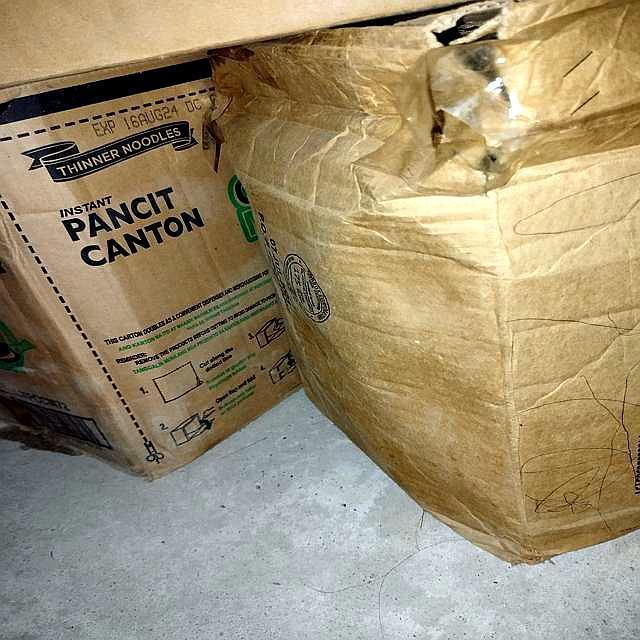Biodegradable: (1, 5, 640, 561)
